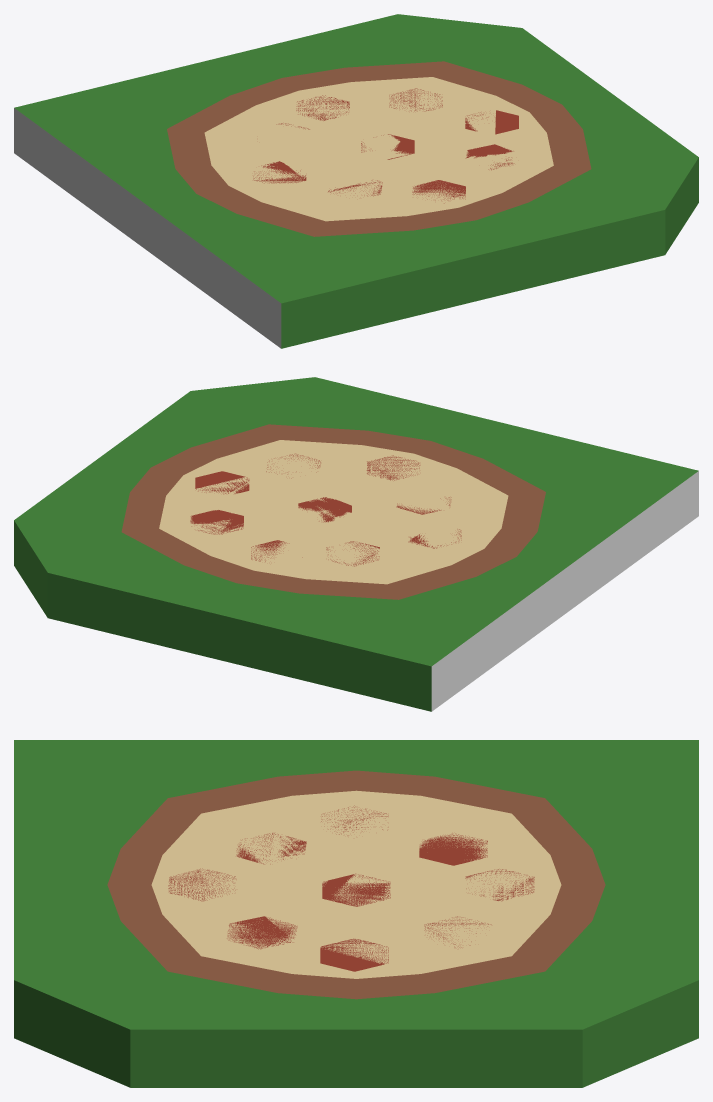
The model's file is PizzaBox.fbx.
The picture shows the model from 3 angles, top to bottom: view 1: azimuth 30°, elevation 25°; view 2: azimuth 150°, elevation 25°; view 3: azimuth 270°, elevation 25°; orthographic projection. The views are drawn at different scales.
Visible parts, largest first — view 1: PizzaBox; view 2: PizzaBox; view 3: PizzaBox.
Boxes of the visible parts, box(x1,y1,x2,y2) form: PizzaBox: box(14, 14, 698, 348); PizzaBox: box(14, 377, 698, 711); PizzaBox: box(14, 740, 698, 1087).
Size of the model in its own units: 0.6933 by 0.6933 by 0.065.
